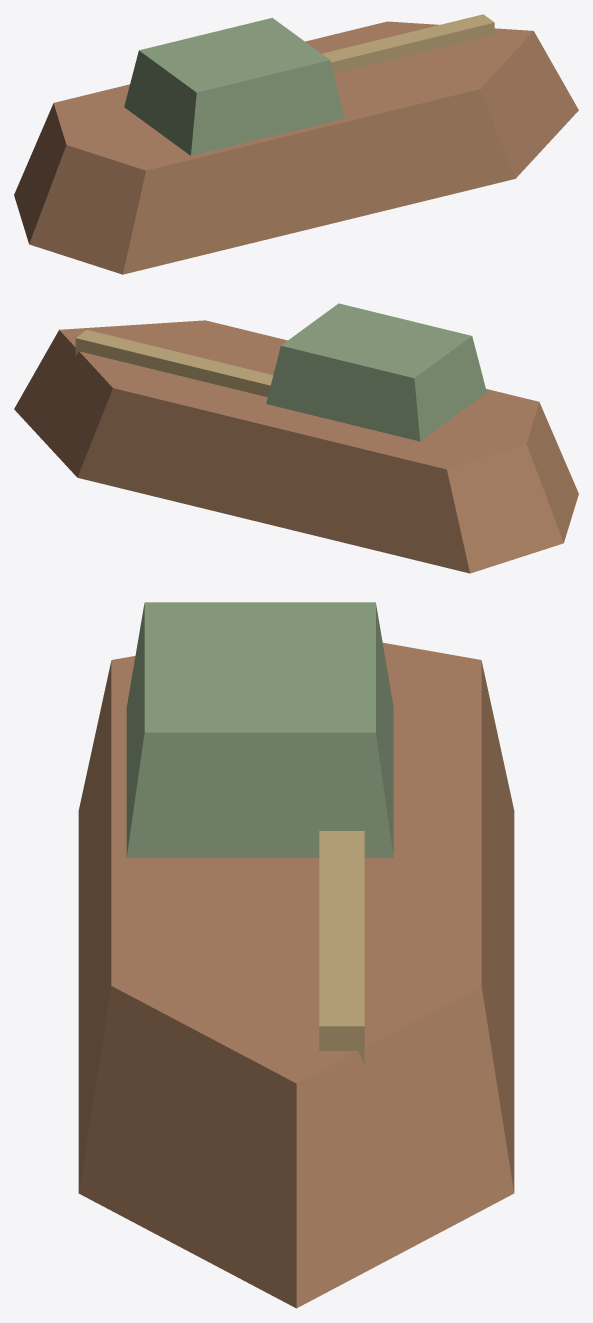
Rendered from wreck.glb.
3 views of the same model, one above another, from view 1: azimuth 30°, elevation 25°; view 2: azimuth 150°, elevation 25°; view 3: azimuth 270°, elevation 25° (orthographic). The views are drawn at different scales.
Bounding box in the file's own units: 14 × 3.6 × 4.8.
